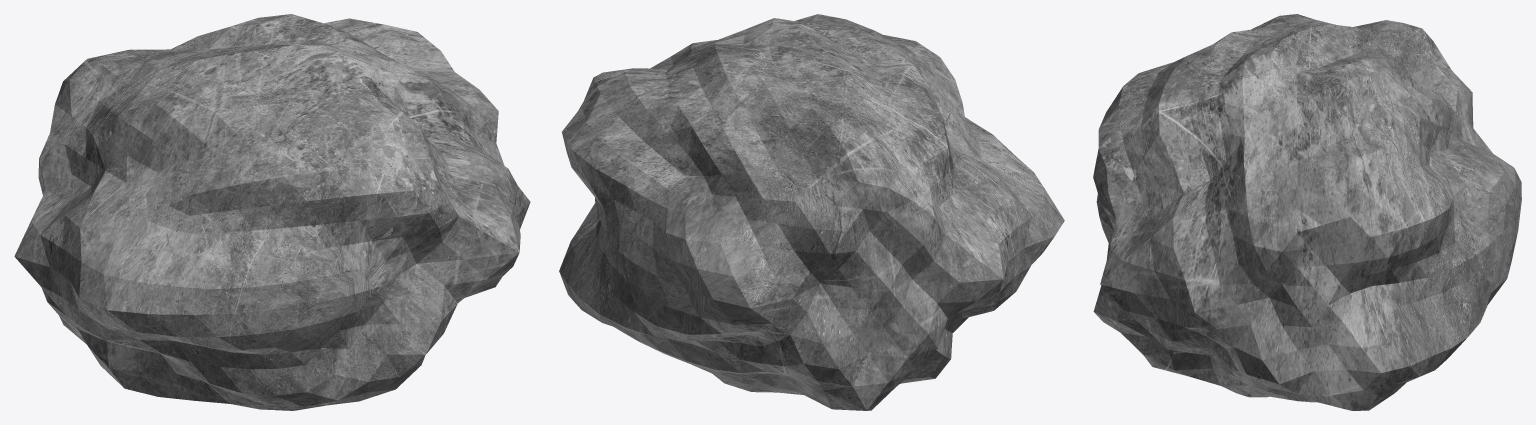
The model's file is asteroide_01.obj.
The picture shows the model from 3 angles, left to right: view 1: azimuth 30°, elevation 25°; view 2: azimuth 150°, elevation 25°; view 3: azimuth 270°, elevation 25°; orthographic projection. The views are drawn at different scales.
Visible parts, largest first — view 1: asteroide_02; view 2: asteroide_02; view 3: asteroide_02.
Boxes of the visible parts, x1=… form: asteroide_02: x1=14, y1=14, x2=530, y2=410; asteroide_02: x1=559, y1=14, x2=1064, y2=410; asteroide_02: x1=1093, y1=14, x2=1521, y2=410.
Bounding box in the file's own units: 0.9061 × 0.6795 × 0.7841.
Materials: 1 (1 with a texture image).
